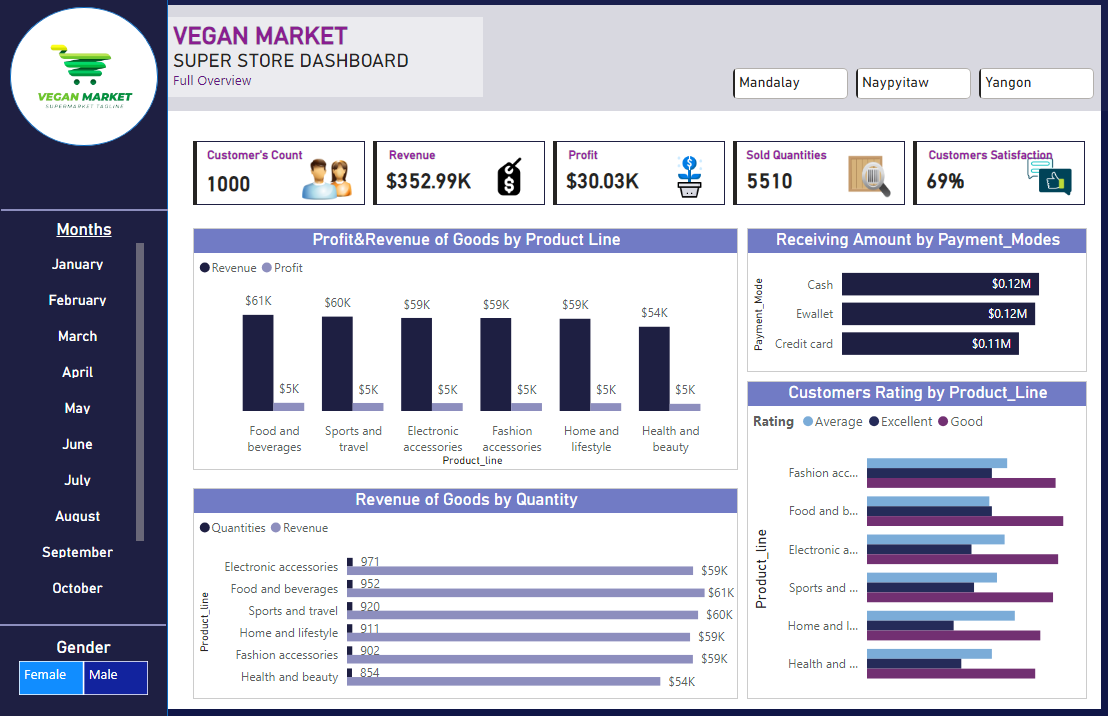

What the dashboard file says about the page in this screenshot:
{"tool":"powerbi","page":{"name":"Page 1","canvas":[1110,720],"ordinal":0},"visuals":[{"type":"shape","box":[0,0,1110,720],"z":0},{"type":"shape","box":[0,0,168.9,720],"z":1000},{"type":"shape","box":[168.9,0,941.1,114.4],"z":2000},{"type":"shape","box":[11.2,10,147.5,138.8],"z":3000},{"type":"image","box":[2.8,0,166.6,160],"z":4000},{"type":"cardVisual","fields":{"Data":["CountNonNull(Customer.Invoice_ID)","Sum(Product.Sold_Price)","Sum(Product.Goods_Profit)","Sum(Product.Quantity)","Customer.Positive_Rating"]},"box":[189,139,904,74],"z":5000},{"type":"textbox","box":[169,20,315,80],"z":6000},{"type":"textbox","box":[194.4,143.3,893.3,26.7],"z":7000},{"type":"advancedSlicerVisual","fields":{"Values":["Customer.City"]},"box":[728.9,65.6,372.2,41.1],"z":8000},{"type":"shape","box":[2.2,204.4,166.7,17.8],"z":9000},{"type":"advancedSlicerVisual","fields":{"Values":["Product.Months"]},"box":[20,222,130,384],"z":10000},{"type":"shape","box":[0,619,167,18],"z":11000},{"type":"clusteredColumnChart","title":"Profit&Revenue of Goods by Product Line","fields":{"Category":["Product.Product_line"],"Y":["Sum(Product.Sold_Price)","Sum(Product.Goods_Profit)"]},"box":[194.4,231.1,544.4,242.2],"z":12000},{"type":"treemap","title":"Gender","fields":{"Group":["Customer.Gender"],"Values":["CountNonNull(Customer.Invoice_ID)"]},"box":[15.2,640,139,62.9],"z":13000},{"type":"clusteredBarChart","title":"Revenue of Goods by Quantity","fields":{"Category":["Product.Product_line"],"Y":["Sum(Product.Quantity)","Sum(Product.Sold_Price)"]},"box":[194.4,491.1,544.4,211.1],"z":14000},{"type":"barChart","title":"Receiving Amount by Payment_Modes","fields":{"Category":["Product.Payment_Mode"],"Y":["Sum(Product.Sold_Price)"]},"box":[748,231,340,144],"z":15000},{"type":"clusteredBarChart","title":"Customers Rating by Product_Line","fields":{"Category":["Product.Product_line"],"Series":["Customer.Customers_Rating"],"Y":["CountNonNull(Customer.Invoice_ID)"]},"box":[748,384,340,318],"z":16000}]}

Visuals, with their boxes in screenshot pixels (x1, y1, x2, y2), scaled from the page's 1110x720 canvas onto the 1108x716 screenshot:
shape: l=0, t=0, r=1107, b=715
shape: l=0, t=0, r=169, b=715
shape: l=169, t=0, r=1107, b=114
shape: l=11, t=10, r=158, b=148
image: l=3, t=0, r=169, b=159
cardVisual - CountNonNull(Customer.Invoice_ID) x Sum(Product.Sold_Price): l=189, t=138, r=1091, b=212
textbox: l=169, t=20, r=483, b=99
textbox: l=194, t=143, r=1086, b=169
advancedSlicerVisual - Customer.City: l=728, t=65, r=1099, b=106
shape: l=2, t=203, r=169, b=221
advancedSlicerVisual - Product.Months: l=20, t=221, r=150, b=603
shape: l=0, t=616, r=167, b=633
"Profit&Revenue of Goods by Product Line" clusteredColumnChart: l=194, t=230, r=737, b=471
"Gender" treemap: l=15, t=636, r=154, b=699
"Revenue of Goods by Quantity" clusteredBarChart: l=194, t=488, r=737, b=698
"Receiving Amount by Payment_Modes" barChart: l=747, t=230, r=1086, b=373
"Customers Rating by Product_Line" clusteredBarChart: l=747, t=382, r=1086, b=698
